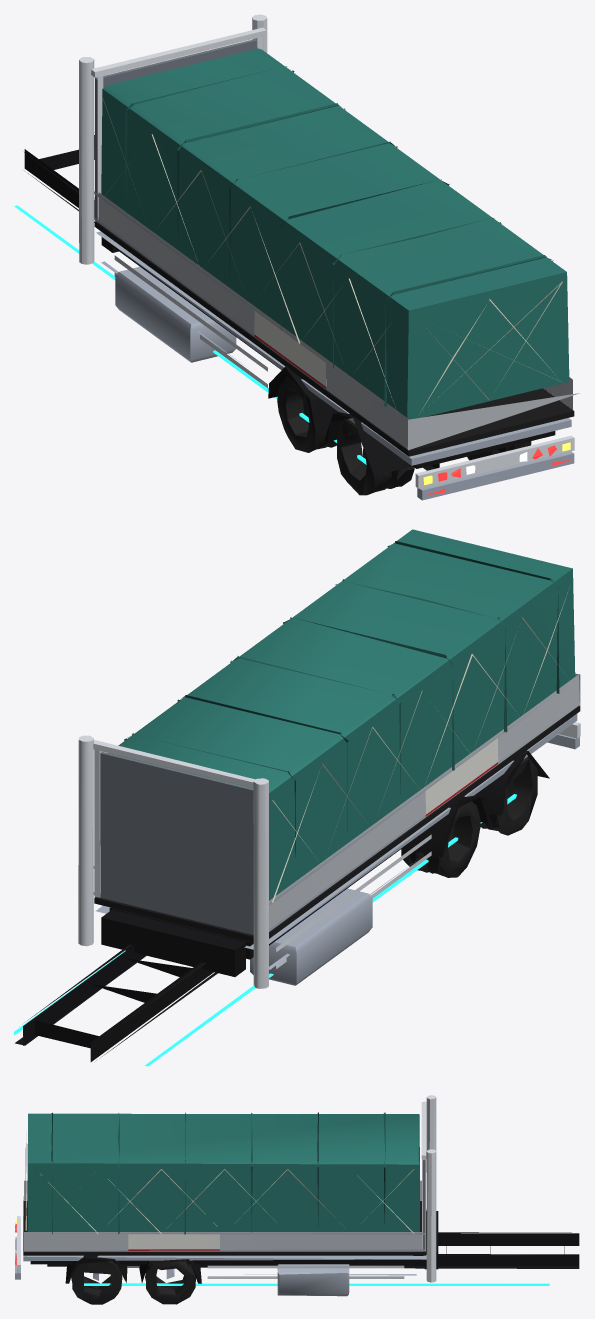
File: body_tarp_lod2.glb
3 views of the same model, one above another, from view 1: azimuth 30°, elevation 25°; view 2: azimuth 150°, elevation 25°; view 3: azimuth 270°, elevation 25° (orthographic). The views are drawn at different scales.
Parts seen in each view (by area): view 1: lod2_tarp, lod2_box_alu, lod2_chrome, lod2_steel, lod2frame_plastic_black, lod2frame_steel, lod2_plastic_trim, lod2_rubber_tire, lod2_tarp_dark, lod2_mesh_perf, lod2_rope, lod2_band_white (+1 smaller); view 2: lod2_tarp, lod2_mesh_perf, lod2_chrome, lod2frame_plastic_black, lod2_box_alu, lod2_plastic_black, lod2frame_steel, lod2_rubber_tire, lod2_plastic_trim, lod2_steel, lod2_tarp_dark, lod2_band_white (+2 smaller); view 3: lod2_tarp, lod2frame_plastic_black, lod2_box_alu, lod2_chrome, lod2_steel, lod2_rubber_tire, lod2frame_steel, lod2_plastic_trim, lod2_band_white, lod2frame_lamp_cyan, lod2_tarp_dark, lod2_rope.
Boxes of the visible parts, left/top/right/bottom form: lod2_tarp: left=101, top=48, right=569, bottom=419; lod2_box_alu: left=98, top=192, right=579, bottom=450; lod2_chrome: left=79, top=14, right=574, bottom=488; lod2_steel: left=94, top=191, right=574, bottom=500; lod2frame_plastic_black: left=24, top=135, right=555, bottom=475; lod2frame_steel: left=101, top=261, right=242, bottom=364; lod2_plastic_trim: left=94, top=221, right=574, bottom=456; lod2_rubber_tire: left=277, top=376, right=531, bottom=495; lod2_tarp_dark: left=124, top=66, right=553, bottom=406; lod2_mesh_perf: left=95, top=39, right=256, bottom=221; lod2_rope: left=102, top=98, right=562, bottom=415; lod2_band_white: left=254, top=311, right=326, bottom=386; lod2_tarp: left=108, top=529, right=575, bottom=900; lod2_mesh_perf: left=100, top=752, right=253, bottom=934; lod2_chrome: left=78, top=722, right=580, bottom=988; lod2frame_plastic_black: left=15, top=750, right=549, bottom=1061; lod2_box_alu: left=269, top=673, right=580, bottom=929; lod2_plastic_black: left=101, top=909, right=245, bottom=976; lod2frame_steel: left=250, top=861, right=415, bottom=985; lod2_rubber_tire: left=401, top=757, right=537, bottom=877; lod2_plastic_trim: left=94, top=705, right=580, bottom=942; lod2_steel: left=93, top=686, right=579, bottom=949; lod2_tarp_dark: left=124, top=541, right=559, bottom=857; lod2_band_white: left=425, top=738, right=498, bottom=814; lod2_tarp: left=27, top=1113, right=419, bottom=1231; lod2frame_plastic_black: left=30, top=1232, right=579, bottom=1283; lod2_box_alu: left=23, top=1180, right=422, bottom=1251; lod2_chrome: left=17, top=1095, right=436, bottom=1282; lod2_steel: left=15, top=1209, right=426, bottom=1279; lod2_rubber_tire: left=71, top=1261, right=195, bottom=1304; lod2frame_steel: left=93, top=1264, right=416, bottom=1296; lod2_plastic_trim: left=23, top=1200, right=425, bottom=1255; lod2_band_white: left=128, top=1234, right=219, bottom=1249; lod2frame_lamp_cyan: left=84, top=1283, right=549, bottom=1285; lod2_tarp_dark: left=51, top=1112, right=385, bottom=1234; lod2_rope: left=25, top=1131, right=414, bottom=1233.
Bounding box in the file's own units: 2.79 × 3.52 × 11.52.
16 materials, 3 textured.
